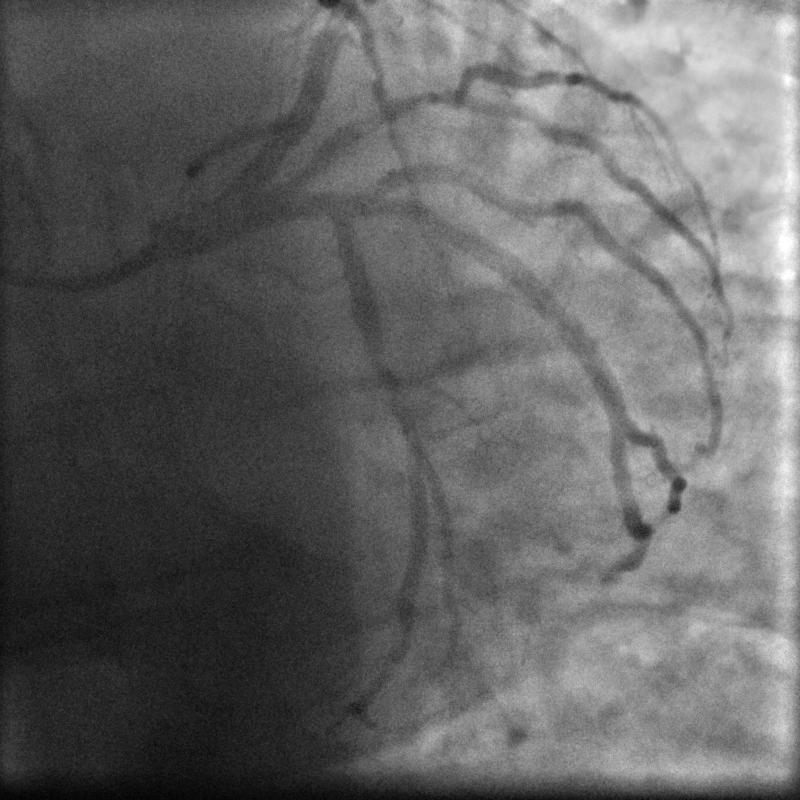Stenosis: (376, 359, 417, 451)
